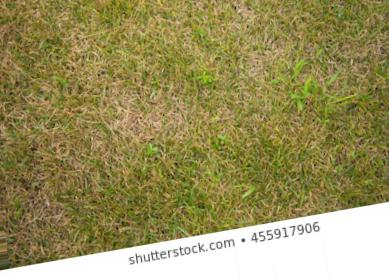patch: (3, 1, 80, 262), (90, 6, 163, 134), (170, 102, 208, 132)
